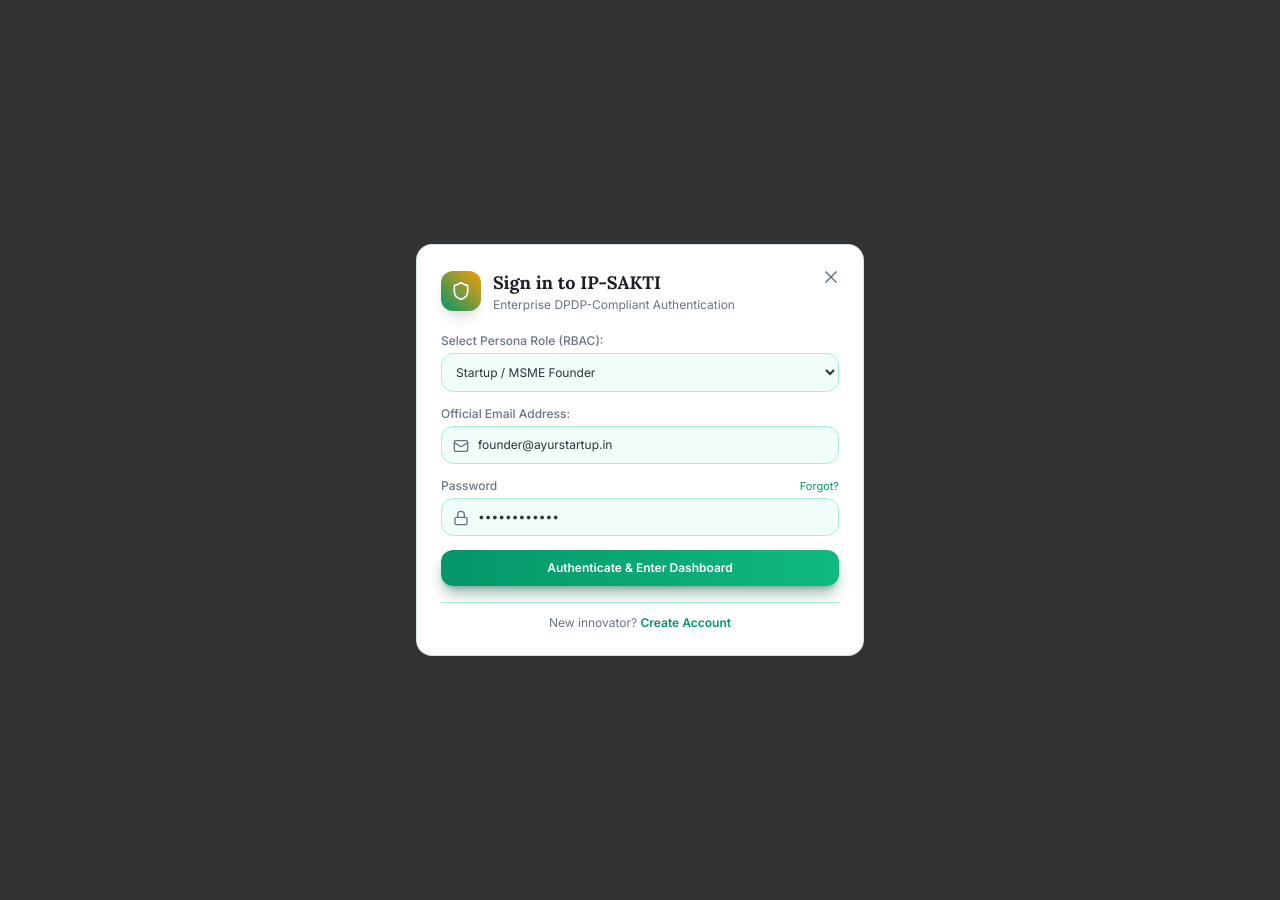
it: AuthModal › signup mode advances to 2FA instead of logging in
The width and height of the screenshot is (1280, 900).
Click the button "Create Account".
click(686, 623)  # box [640,615,731,631]
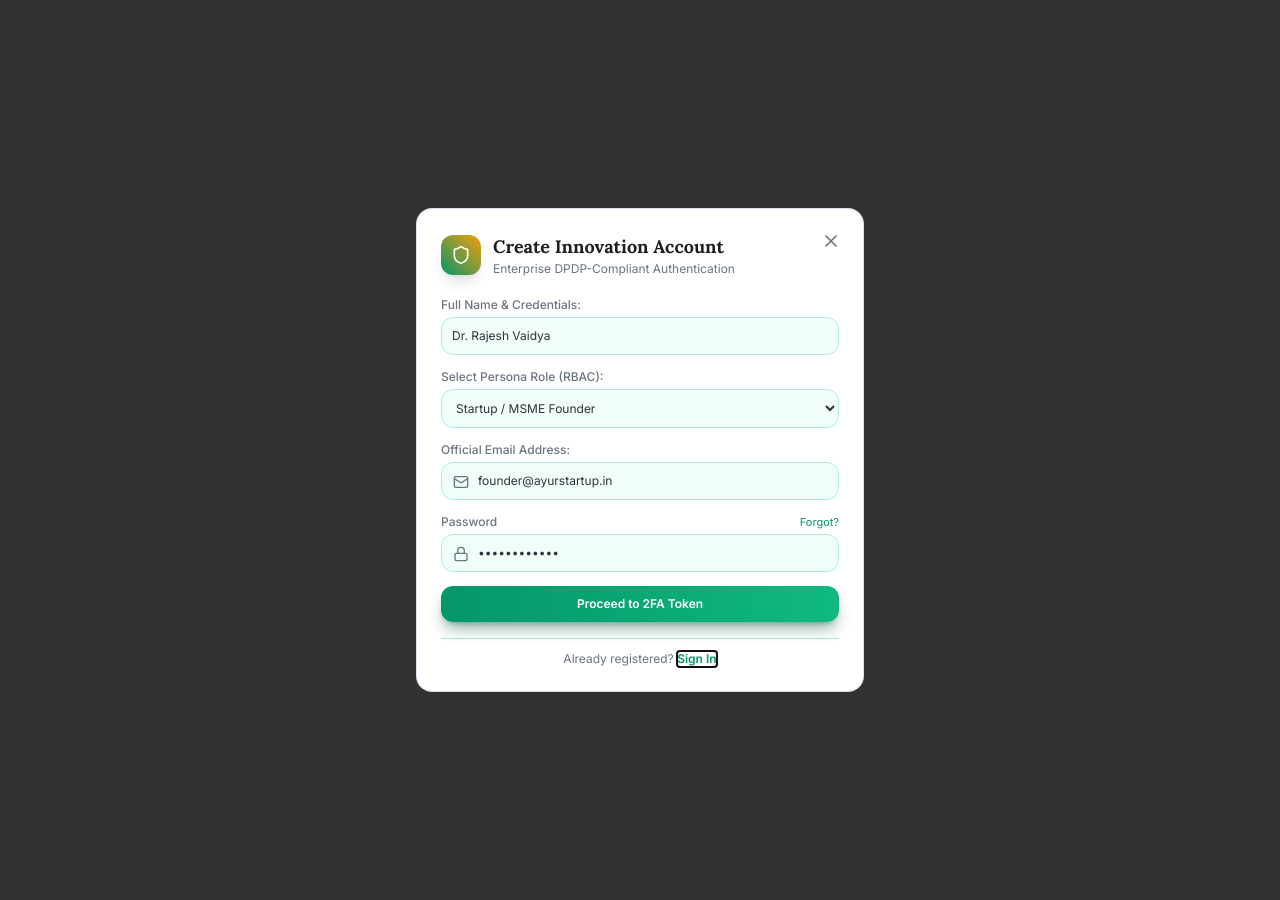
expect the heading "Create Innovation Account" is shown: met, box [493,233,735,261]
Click the button "Proceed to 2FA Token".
click(640, 604)  # box [441,586,839,622]
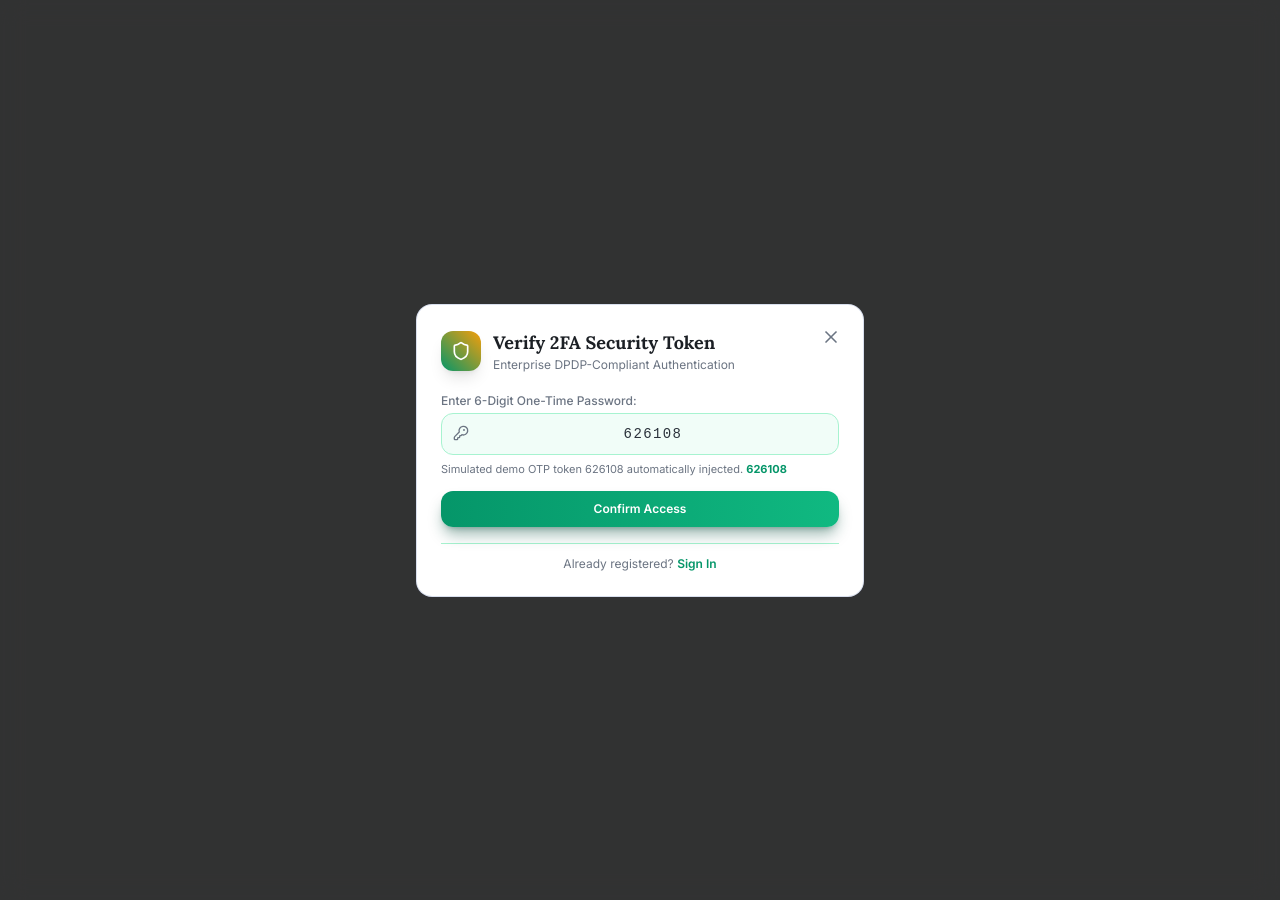
expect the heading "Verify 2FA Security Token" is shown: met, box [493,328,735,356]
